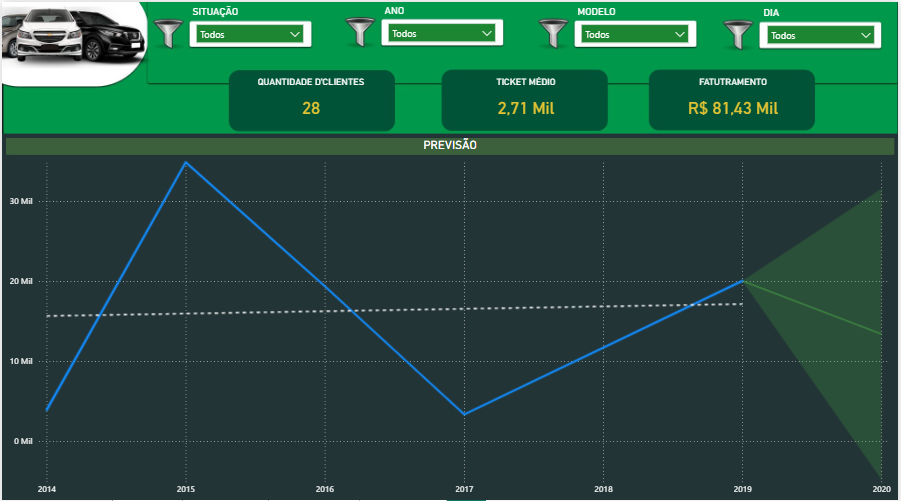

What the dashboard file says about the page in this screenshot:
{"tool":"powerbi","page":{"name":"previsão","canvas":[1280,720],"ordinal":3},"visuals":[{"type":"card","title":"QUANTIDADE D''CLIENTES","fields":{"Values":["tb_km.QTD CLIENTES"]},"box":[332.9,107.1,217.1,72.9],"z":0},{"type":"card","title":"FATUTRAMENTO","fields":{"Values":["Sum(tb_km.FAT MEDIDA)"]},"box":[935.7,107.1,217.1,72.9],"z":1000},{"type":"slicer","title":"SITUAÇÃO","fields":{"Values":["tb_km.SITUAÇÃO CADASTRAL"]},"box":[267.1,5.7,174.3,62.9],"z":2000},{"type":"slicer","title":"ANO","fields":{"Values":["tb_km.ANO"]},"box":[541.4,4.3,174.3,62.9],"z":3000},{"type":"slicer","title":"MODELO","fields":{"Values":["tb_km.MODELO"]},"box":[817.1,5.7,174.3,62.9],"z":4000},{"type":"slicer","title":"DIA","fields":{"Values":["tb_km.DIA"]},"box":[1082.9,7.1,174.3,62.9],"z":5000},{"type":"lineChart","title":"PREVISÃO","fields":{"Category":["tb_km.DATA.Variation.Hierarquia de datas.Ano","tb_km.DATA.Variation.Hierarquia de datas.Trimestre","tb_km.DATA.Variation.Hierarquia de datas.Mês","tb_km.DATA.Variation.Hierarquia de datas.Dia"],"Y":["MEDIDAS.FATURAMENTO"]},"box":[5.7,194.3,1268.6,520],"z":6000},{"type":"card","title":"TICKET MÉDIO","fields":{"Values":["MEDIDAS.TicketMédioPorCliente"]},"box":[640,107.1,217.1,72.9],"z":7000}]}

Visuals, with their boxes in screenshot pixels (x1, y1, x2, y2), scaled from the page's 1280x720 canvas onto the 901x501 screenshot:
"QUANTIDADE D''CLIENTES" card: BBox(234, 75, 387, 125)
"FATUTRAMENTO" card: BBox(659, 75, 811, 125)
"SITUAÇÃO" slicer: BBox(188, 4, 311, 48)
"ANO" slicer: BBox(381, 3, 504, 47)
"MODELO" slicer: BBox(575, 4, 698, 48)
"DIA" slicer: BBox(762, 5, 885, 49)
"PREVISÃO" lineChart: BBox(4, 135, 897, 497)
"TICKET MÉDIO" card: BBox(450, 75, 603, 125)
